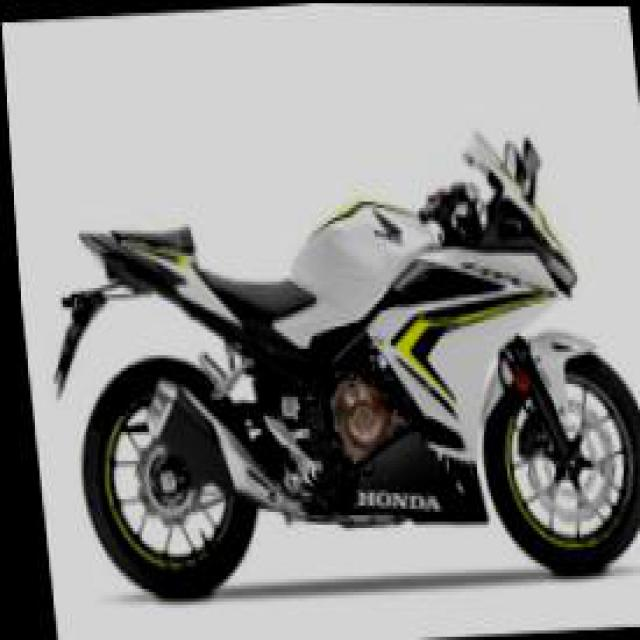CBR500R: (47, 119, 638, 612)
